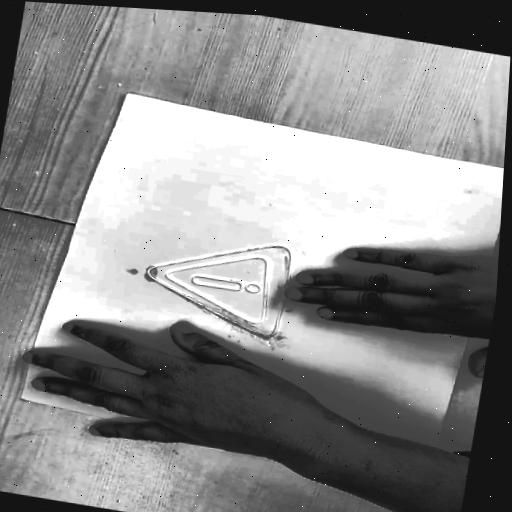bottom_right: (417, 467, 433, 480)
signboard: (125, 212, 398, 367)
top_left: (118, 87, 135, 100)
top_right: (12, 391, 30, 403)
